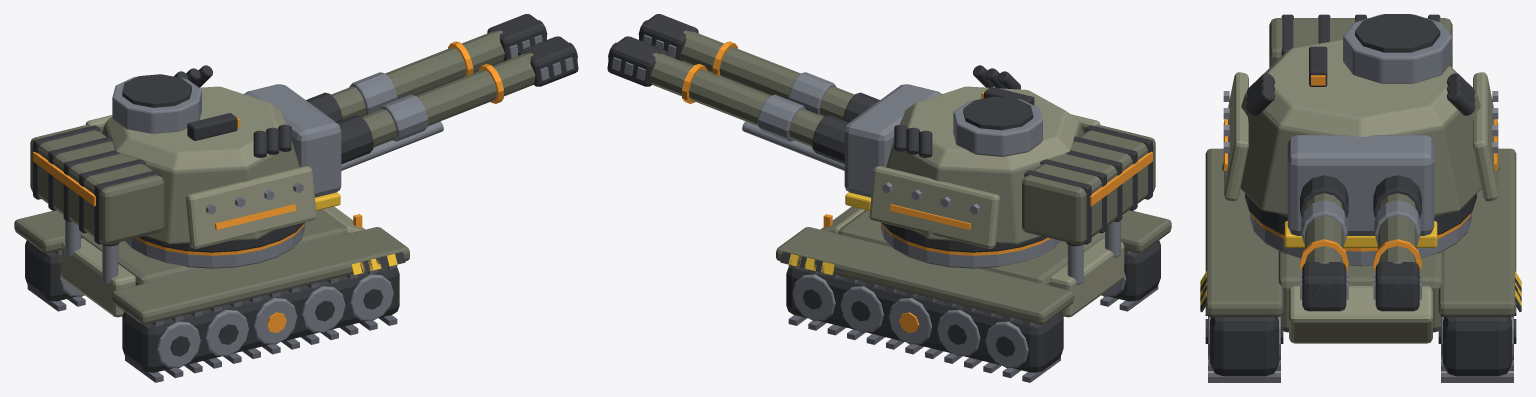
File: torreta_canon.glb
3 views of the same model, side by side, from view 1: azimuth 30°, elevation 25°; view 2: azimuth 150°, elevation 25°; view 3: azimuth 270°, elevation 25° (orthographic). The views are drawn at different scales.
Visible parts, largest first — view 1: Pivot, Base, Barrel; view 2: Pivot, Base, Barrel; view 3: Pivot, Base, Barrel.
Boxes of the visible parts, left/top/right/bottom form: Pivot: left=30, top=65, right=341, bottom=252; Base: left=14, top=206, right=409, bottom=382; Barrel: left=306, top=14, right=578, bottom=170; Pivot: left=844, top=65, right=1155, bottom=252; Base: left=776, top=206, right=1171, bottom=382; Barrel: left=607, top=14, right=879, bottom=170; Pivot: left=1222, top=14, right=1499, bottom=247; Base: left=1200, top=148, right=1521, bottom=382; Barrel: left=1300, top=175, right=1421, bottom=311.
Bounding box in the file's own units: 6.16 × 2.57 × 2.9.
Materials: 1 (1 with a texture image).
